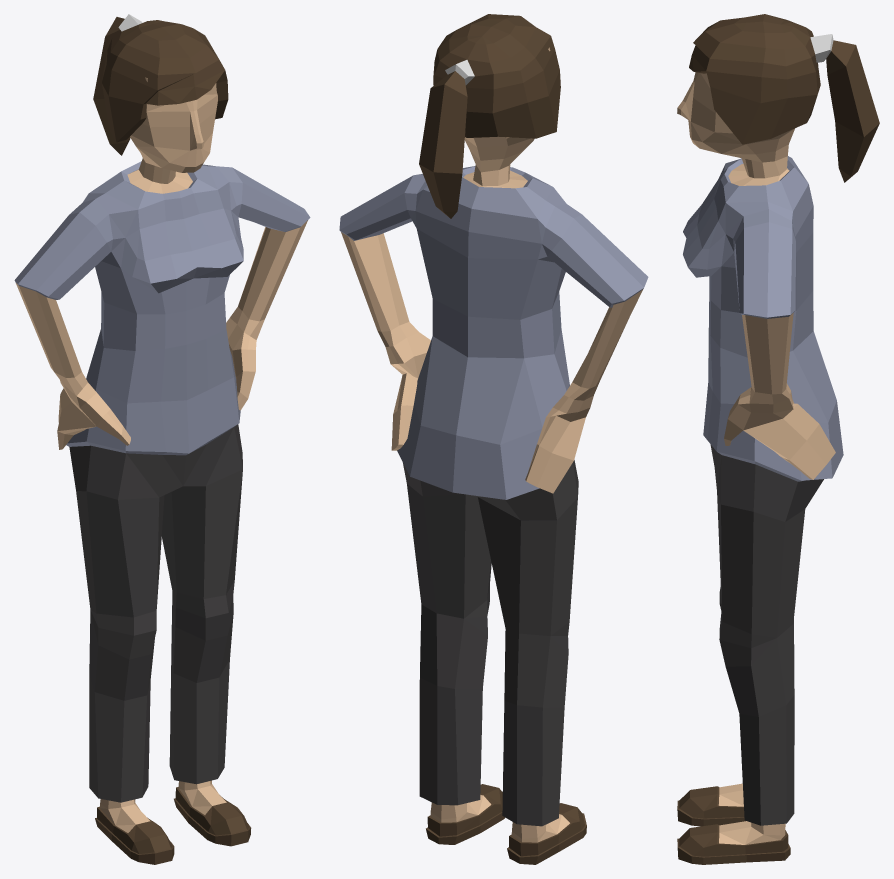
File: Female_Standing_Hips.glb
The picture shows the model from 3 angles, left to right: view 1: azimuth 30°, elevation 25°; view 2: azimuth 150°, elevation 25°; view 3: azimuth 270°, elevation 25°; orthographic projection. The views are drawn at different scales.
Parts seen in each view (by area): view 1: Female_Standing_Hips; view 2: Female_Standing_Hips; view 3: Female_Standing_Hips.
Part boxes in pixels (<box>): Female_Standing_Hips: <box>14,14,310,864</box>; Female_Standing_Hips: <box>339,14,648,864</box>; Female_Standing_Hips: <box>677,14,879,864</box>.
Bounding box in the file's own units: 0.6464 × 1.69 × 0.3808.
